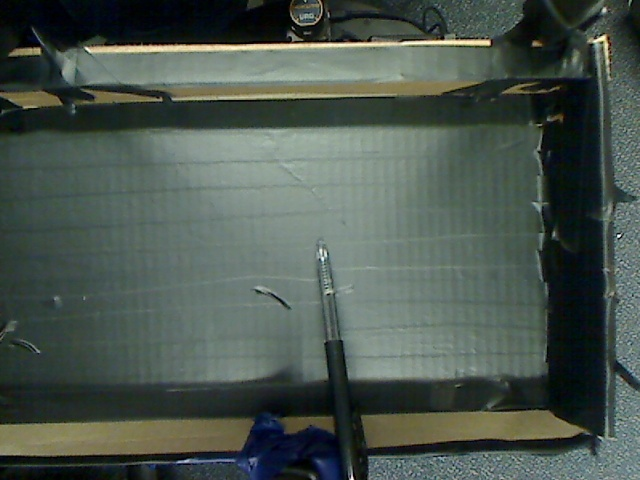pen: (301, 213, 360, 480)
